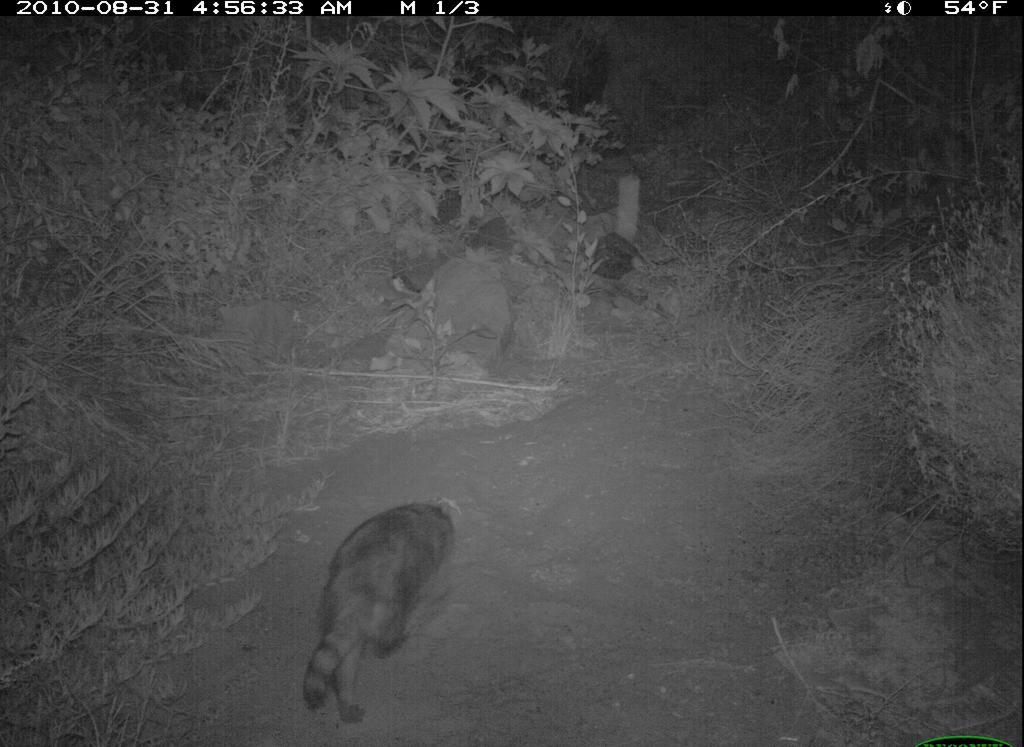raccoon: (294, 491, 473, 731)
